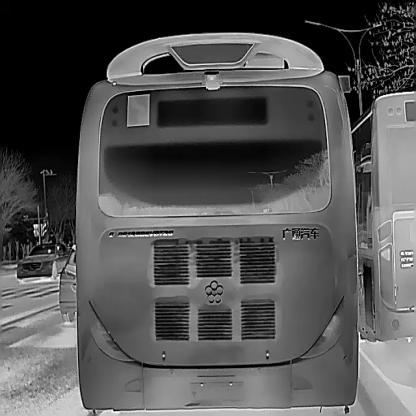car: (71, 26, 359, 412), (351, 89, 416, 343), (15, 241, 69, 283), (58, 243, 76, 321)
